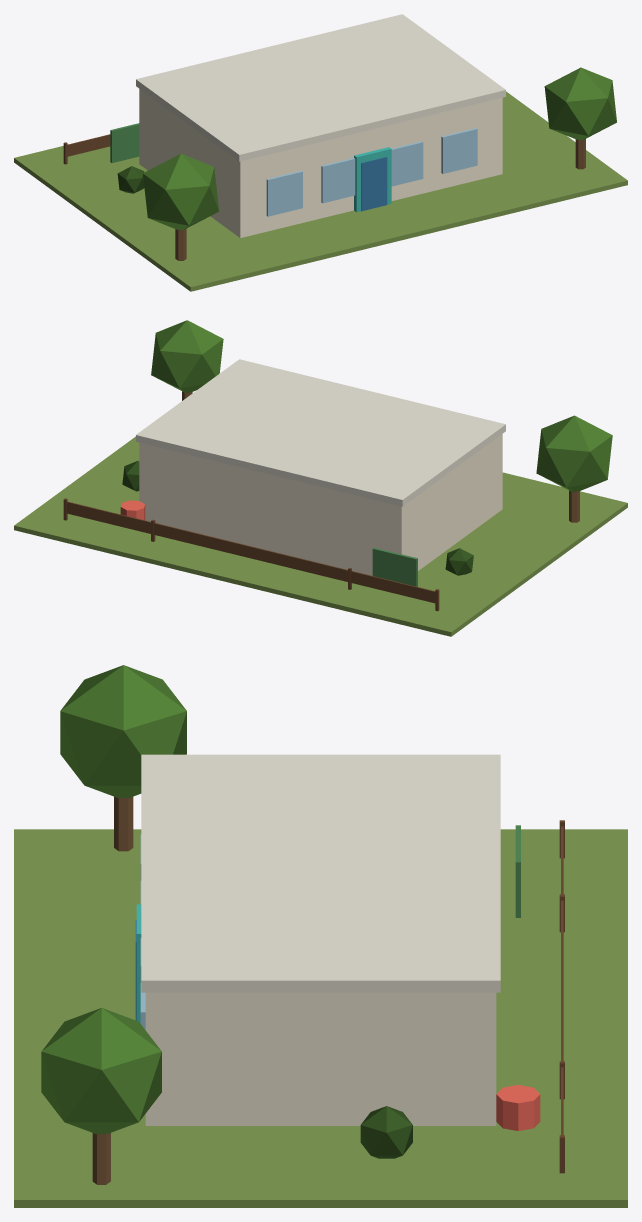
Rendered from building.school-daycare.glb.
3 views of the same model, one above another, from view 1: azimuth 30°, elevation 25°; view 2: azimuth 150°, elevation 25°; view 3: azimuth 270°, elevation 25° (orthographic). The views are drawn at different scales.
Visible parts, largest first — view 1: building.school-daycare; view 2: building.school-daycare; view 3: building.school-daycare.
Boxes of the visible parts, x1=… form: building.school-daycare: x1=14, y1=14, x2=627, y2=291; building.school-daycare: x1=14, y1=320, x2=627, y2=636; building.school-daycare: x1=14, y1=665, x2=627, y2=1207.
Size of the model in its own units: 20.97 by 4.8 by 14.
